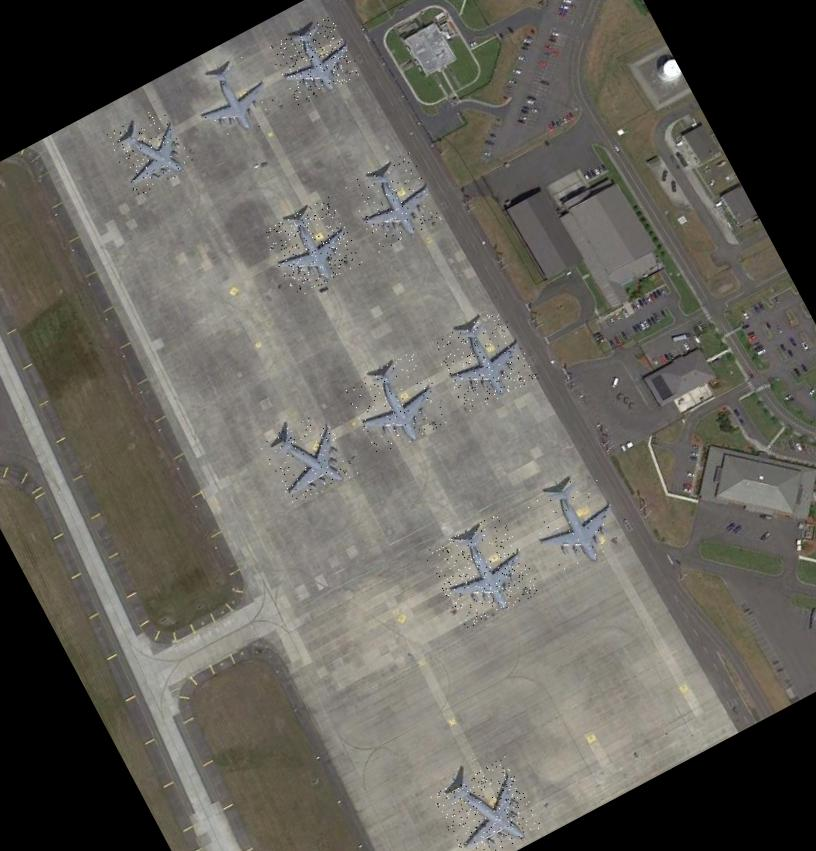A3: (423, 511, 542, 631), (518, 468, 630, 580), (342, 348, 452, 458), (430, 306, 538, 414), (430, 755, 543, 851), (261, 196, 364, 298), (343, 150, 444, 252), (258, 407, 358, 507), (183, 49, 283, 148), (266, 12, 362, 106), (102, 102, 196, 197)
